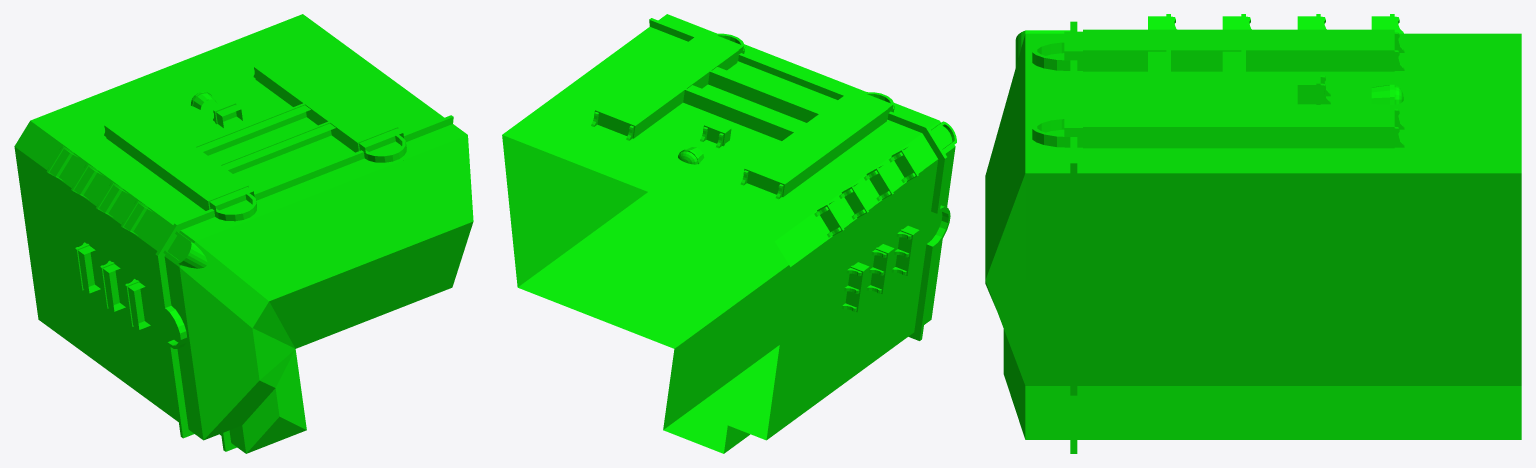
3 views of the same model, side by side, from view 1: azimuth 30°, elevation 25°; view 2: azimuth 150°, elevation 25°; view 3: azimuth 270°, elevation 25° (orthographic). The views are drawn at different scales.
Visible parts, largest first — view 1: _STL_BINARY_; view 2: _STL_BINARY_; view 3: _STL_BINARY_.
Boxes of the visible parts, bbox=[...] form: _STL_BINARY_: bbox=[14, 14, 473, 453]; _STL_BINARY_: bbox=[502, 14, 956, 453]; _STL_BINARY_: bbox=[985, 14, 1521, 453].
Bounding box in the file's own units: 1105 × 986 × 1141.
